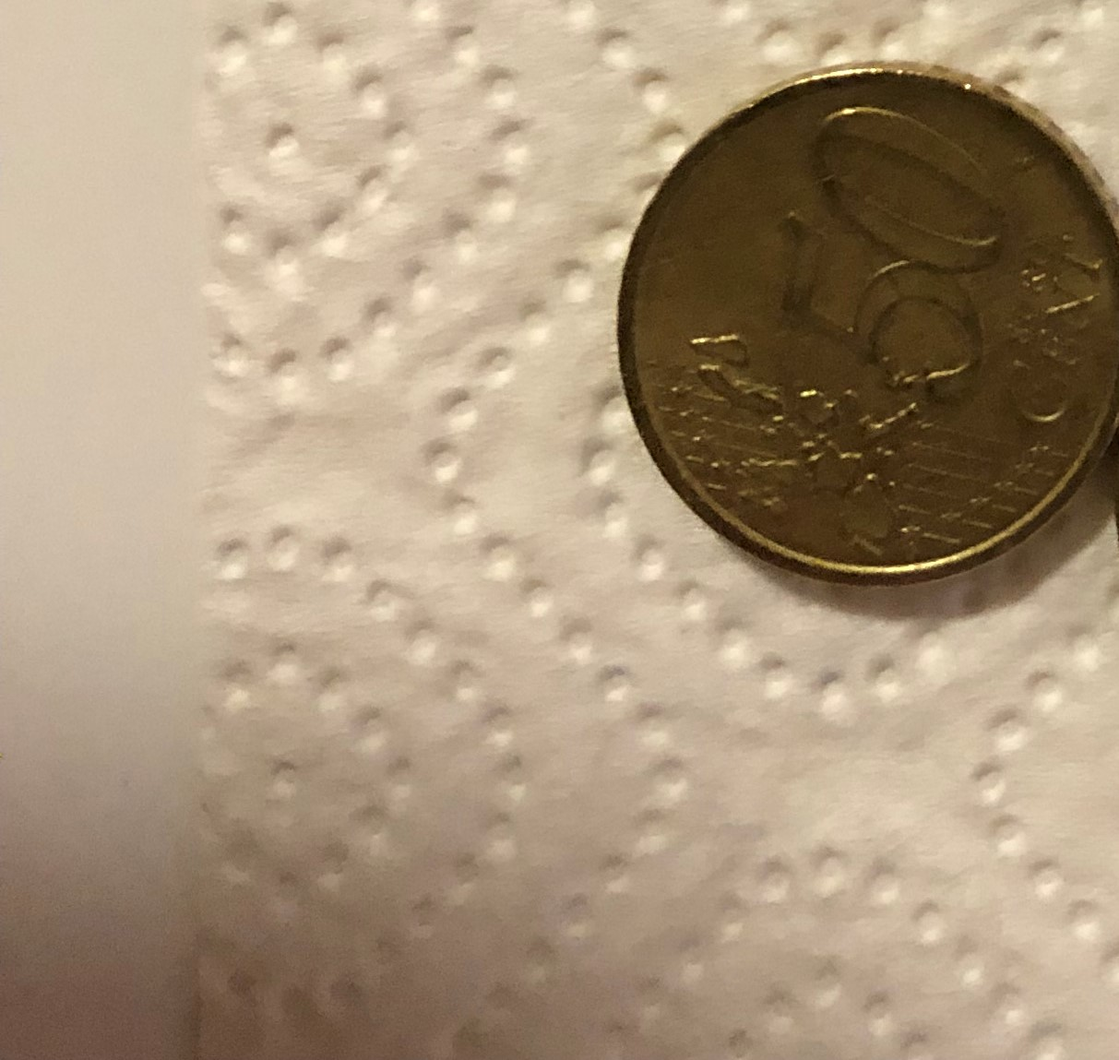50 cent: (609, 52, 1119, 599)
